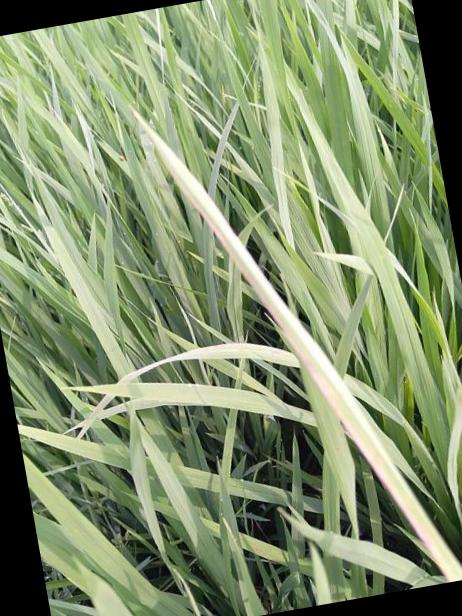Leaf Blight: (136, 113, 434, 551)
